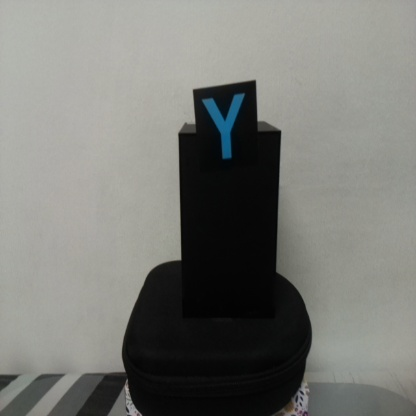id_14: (193, 88, 258, 171)
